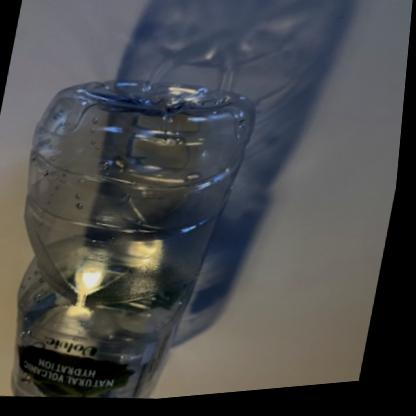Plastic: (16, 82, 256, 402)
